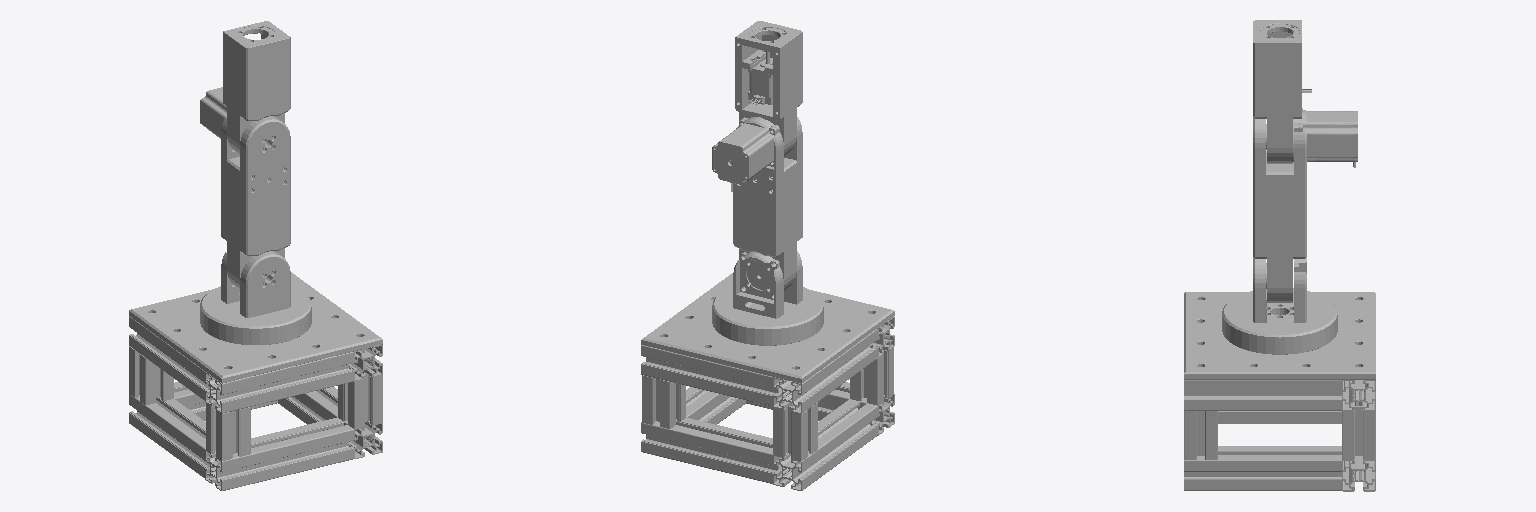
The robot description file, URDF, robot "O-R-A_V6_rework":
<?xml version="1.0" encoding="utf-8"?>
<!-- This URDF was automatically created by SolidWorks to URDF Exporter! Originally created by Stephen Brawner (brawner@gmail.com) 
     Commit Version: 1.6.0-4-g7f85cfe  Build Version: 1.6.7995.38578
     For more information, please see http://wiki.ros.org/sw_urdf_exporter -->
<robot
  name="O-R-A_V6_rework">
  <link
    name="base_link">
    <inertial>
      <origin
        xyz="7.4704E-15 -0.020416 8.4312E-15"
        rpy="0 0 0" />
      <mass
        value="3.7947" />
      <inertia
        ixx="0.008948"
        ixy="-2.9372E-17"
        ixz="1.5738E-17"
        iyy="0.016454"
        iyz="-2.9415E-17"
        izz="0.008948" />
    </inertial>
    <visual>
      <origin
        xyz="0 0 0"
        rpy="0 0 0" />
      <geometry>
        <mesh
          filename="package://O-R-A_V6_rework/meshes/base_link.STL" />
      </geometry>
      <material
        name="">
        <color
          rgba="0.75294 0.75294 0.75294 1" />
      </material>
    </visual>
    <collision>
      <origin
        xyz="0 0 0"
        rpy="0 0 0" />
      <geometry>
        <mesh
          filename="package://O-R-A_V6_rework/meshes/base_link.STL" />
      </geometry>
    </collision>
  </link>
  <link
    name="link_1">
    <inertial>
      <origin
        xyz="0.0020081 0.083268 -2.4769E-12"
        rpy="0 0 0" />
      <mass
        value="0.53637" />
      <inertia
        ixx="0.00069708"
        ixy="-1.845E-06"
        ixz="-8.389E-10"
        iyy="0.0010982"
        iyz="2.3443E-09"
        izz="0.00063295" />
    </inertial>
    <visual>
      <origin
        xyz="0 0 0"
        rpy="0 0 0" />
      <geometry>
        <mesh
          filename="package://O-R-A_V6_rework/meshes/link_1.STL" />
      </geometry>
      <material
        name="">
        <color
          rgba="0.75294 0.75294 0.75294 1" />
      </material>
    </visual>
    <collision>
      <origin
        xyz="0 0 0"
        rpy="0 0 0" />
      <geometry>
        <mesh
          filename="package://O-R-A_V6_rework/meshes/link_1.STL" />
      </geometry>
    </collision>
  </link>
  <joint
    name="joint_1"
    type="continuous">
    <origin
      xyz="0 0 0"
      rpy="1.5708 0 -1.5708" />
    <parent
      link="base_link" />
    <child
      link="link_1" />
    <axis
      xyz="0 1 0" />
    <limit
      lower="0"
      upper="6.283185"
      effort="0"
      velocity="0" />
  </joint>
  <link
    name="link_2">
    <inertial>
      <origin
        xyz="-0.012351 0.12633 -2.028E-06"
        rpy="0 0 0" />
      <mass
        value="1.0613" />
      <inertia
        ixx="0.0018258"
        ixy="1.7356E-05"
        ixz="-2.4718E-09"
        iyy="0.00070786"
        iyz="9.6421E-09"
        izz="0.0017424" />
    </inertial>
    <visual>
      <origin
        xyz="0 0 0"
        rpy="0 0 0" />
      <geometry>
        <mesh
          filename="package://O-R-A_V6_rework/meshes/link_2.STL" />
      </geometry>
      <material
        name="">
        <color
          rgba="0.75294 0.75294 0.75294 1" />
      </material>
    </visual>
    <collision>
      <origin
        xyz="0 0 0"
        rpy="0 0 0" />
      <geometry>
        <mesh
          filename="package://O-R-A_V6_rework/meshes/link_2.STL" />
      </geometry>
    </collision>
  </link>
  <joint
    name="joint_2"
    type="revolute">
    <origin
      xyz="0 0.1345 0"
      rpy="0 0 0" />
    <parent
      link="link_1" />
    <child
      link="link_2" />
    <axis
      xyz="1 0 0" />
    <limit
      lower="-1.745329"
      upper="1.745329"
      effort="0"
      velocity="0" />
  </joint>
  <link
    name="link_3">
    <inertial>
      <origin
        xyz="0.0015012 0.076361 9.2135E-09"
        rpy="0 0 0" />
      <mass
        value="0.48823" />
      <inertia
        ixx="0.00115"
        ixy="-3.1225E-05"
        ixz="8.6223E-11"
        iyy="0.00035587"
        iyz="5.1335E-11"
        izz="0.0010323" />
    </inertial>
    <visual>
      <origin
        xyz="0 0 0"
        rpy="0 0 0" />
      <geometry>
        <mesh
          filename="package://O-R-A_V6_rework/meshes/link_3.STL" />
      </geometry>
      <material
        name="">
        <color
          rgba="0.75294 0.75294 0.75294 1" />
      </material>
    </visual>
    <collision>
      <origin
        xyz="0 0 0"
        rpy="0 0 0" />
      <geometry>
        <mesh
          filename="package://O-R-A_V6_rework/meshes/link_3.STL" />
      </geometry>
    </collision>
  </link>
  <joint
    name="joint_3"
    type="revolute">
    <origin
      xyz="0 0.2 0"
      rpy="0 0 0" />
    <parent
      link="link_2" />
    <child
      link="link_3" />
    <axis
      xyz="1 0 0" />
    <limit
      lower="-1.745329"
      upper="1.745329"
      effort="0"
      velocity="0" />
  </joint>
  <link
    name="link_4">
    <inertial>
      <origin
        xyz="-0.00059255 0.06635 0.00022978"
        rpy="0 0 0" />
      <mass
        value="0.61778" />
      <inertia
        ixx="0.00052175"
        ixy="-7.6052E-06"
        ixz="-2.0107E-06"
        iyy="0.00029593"
        iyz="2.1651E-07"
        izz="0.00064118" />
    </inertial>
    <visual>
      <origin
        xyz="0 0 0"
        rpy="0 0 0" />
      <geometry>
        <mesh
          filename="package://O-R-A_V6_rework/meshes/link_4.STL" />
      </geometry>
      <material
        name="">
        <color
          rgba="0.75294 0.75294 0.75294 1" />
      </material>
    </visual>
    <collision>
      <origin
        xyz="0 0 0"
        rpy="0 0 0" />
      <geometry>
        <mesh
          filename="package://O-R-A_V6_rework/meshes/link_4.STL" />
      </geometry>
    </collision>
  </link>
  <joint
    name="joint_4"
    type="revolute">
    <origin
      xyz="0 0.152 0"
      rpy="-3.1416 0 3.1416" />
    <parent
      link="link_3" />
    <child
      link="link_4" />
    <axis
      xyz="0 -1 0" />
    <limit
      lower="-1.570796"
      upper="1.570796"
      effort="0"
      velocity="0" />
  </joint>
  <link
    name="link_5">
    <inertial>
      <origin
        xyz="0.051343 -0.017358 -0.035577"
        rpy="0 0 0" />
      <mass
        value="0.30401" />
      <inertia
        ixx="0.00013373"
        ixy="1.9629E-06"
        ixz="2.1764E-07"
        iyy="0.00013922"
        iyz="-2.3942E-07"
        izz="5.5178E-05" />
    </inertial>
    <visual>
      <origin
        xyz="0 0 0"
        rpy="0 0 0" />
      <geometry>
        <mesh
          filename="package://O-R-A_V6_rework/meshes/link_5.STL" />
      </geometry>
      <material
        name="">
        <color
          rgba="0.79216 0.81961 0.93333 1" />
      </material>
    </visual>
    <collision>
      <origin
        xyz="0 0 0"
        rpy="0 0 0" />
      <geometry>
        <mesh
          filename="package://O-R-A_V6_rework/meshes/link_5.STL" />
      </geometry>
    </collision>
  </link>
  <joint
    name="Joint_5"
    type="fixed">
    <origin
      xyz="0 0.126 0.0355"
      rpy="0 0 1.8976" />
    <parent
      link="link_4" />
    <child
      link="link_5" />
    <axis
      xyz="0 0 0" />
    <limit
      lower="-1.745329"
      upper="1.745329"
      effort="0"
      velocity="0" />
  </joint>
  <link
    name="link_6">
    <inertial>
      <origin
        xyz="9.8913E-05 5.2284E-05 0.069459"
        rpy="0 0 0" />
      <mass
        value="0.23724" />
      <inertia
        ixx="4.2139E-05"
        ixy="1.7301E-07"
        ixz="-2.8372E-07"
        iyy="0.00013005"
        iyz="-1.0849E-07"
        izz="0.00012236" />
    </inertial>
    <visual>
      <origin
        xyz="0 0 0"
        rpy="0 0 0" />
      <geometry>
        <mesh
          filename="package://O-R-A_V6_rework/meshes/link_6.STL" />
      </geometry>
      <material
        name="">
        <color
          rgba="0.79216 0.81961 0.93333 1" />
      </material>
    </visual>
    <collision>
      <origin
        xyz="0 0 0"
        rpy="0 0 0" />
      <geometry>
        <mesh
          filename="package://O-R-A_V6_rework/meshes/link_6.STL" />
      </geometry>
    </collision>
  </link>
  <joint
    name="joint_6"
    type="fixed">
    <origin
      xyz="0 0 -0.0355"
      rpy="0.32676 1.5708 0" />
    <parent
      link="link_5" />
    <child
      link="link_6" />
    <axis
      xyz="0 0 0" />
    <limit
      lower="0"
      upper="6.283185"
      effort="0"
      velocity="0" />
  </joint>
</robot>

--- What the picture shows (computed from the rendered views, not written in the file) ---
Views: 3 orthographic renders of the robot side by side, from view 1: azimuth 30°, elevation 25°; view 2: azimuth 150°, elevation 25°; view 3: azimuth 270°, elevation 25°.
Robot: O-R-A_V6_rework — 7 links, 6 joints (3 revolute, 1 continuous, 2 fixed); root link base_link; default pose: all joints at 0.
Visible links, largest first — view 1: base_link, link_2, link_1, link_3; view 2: base_link, link_2, link_1, link_3; view 3: base_link, link_2, link_1, link_3.
Boxes of the visible links, x1,y1,x2,y2 form: base_link: (129, 272, 382, 490); link_2: (200, 87, 290, 289); link_1: (200, 251, 311, 344); link_3: (223, 21, 290, 154); base_link: (641, 272, 894, 490); link_2: (712, 117, 802, 289); link_1: (712, 251, 823, 345); link_3: (735, 21, 802, 155); base_link: (1184, 292, 1375, 491); link_2: (1253, 108, 1357, 302); link_1: (1222, 257, 1337, 354); link_3: (1253, 20, 1311, 163).
Size in the robot's own frame: 0.25 by 0.25 by 0.5995 metres.
Meshes: 7 distinct files referenced, 4 mesh visuals loaded (4 binary STL); not drawn: 2 (reference not matched to a file when rendering), 1 (file found but could not be loaded).
